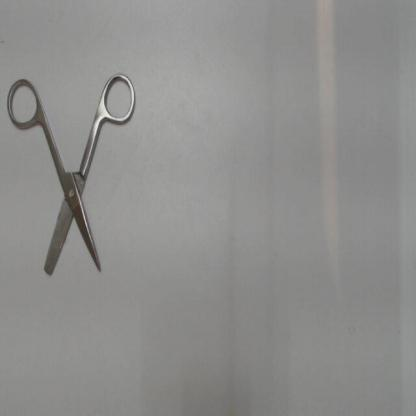Dressing Scissors: (0, 65, 142, 289)
